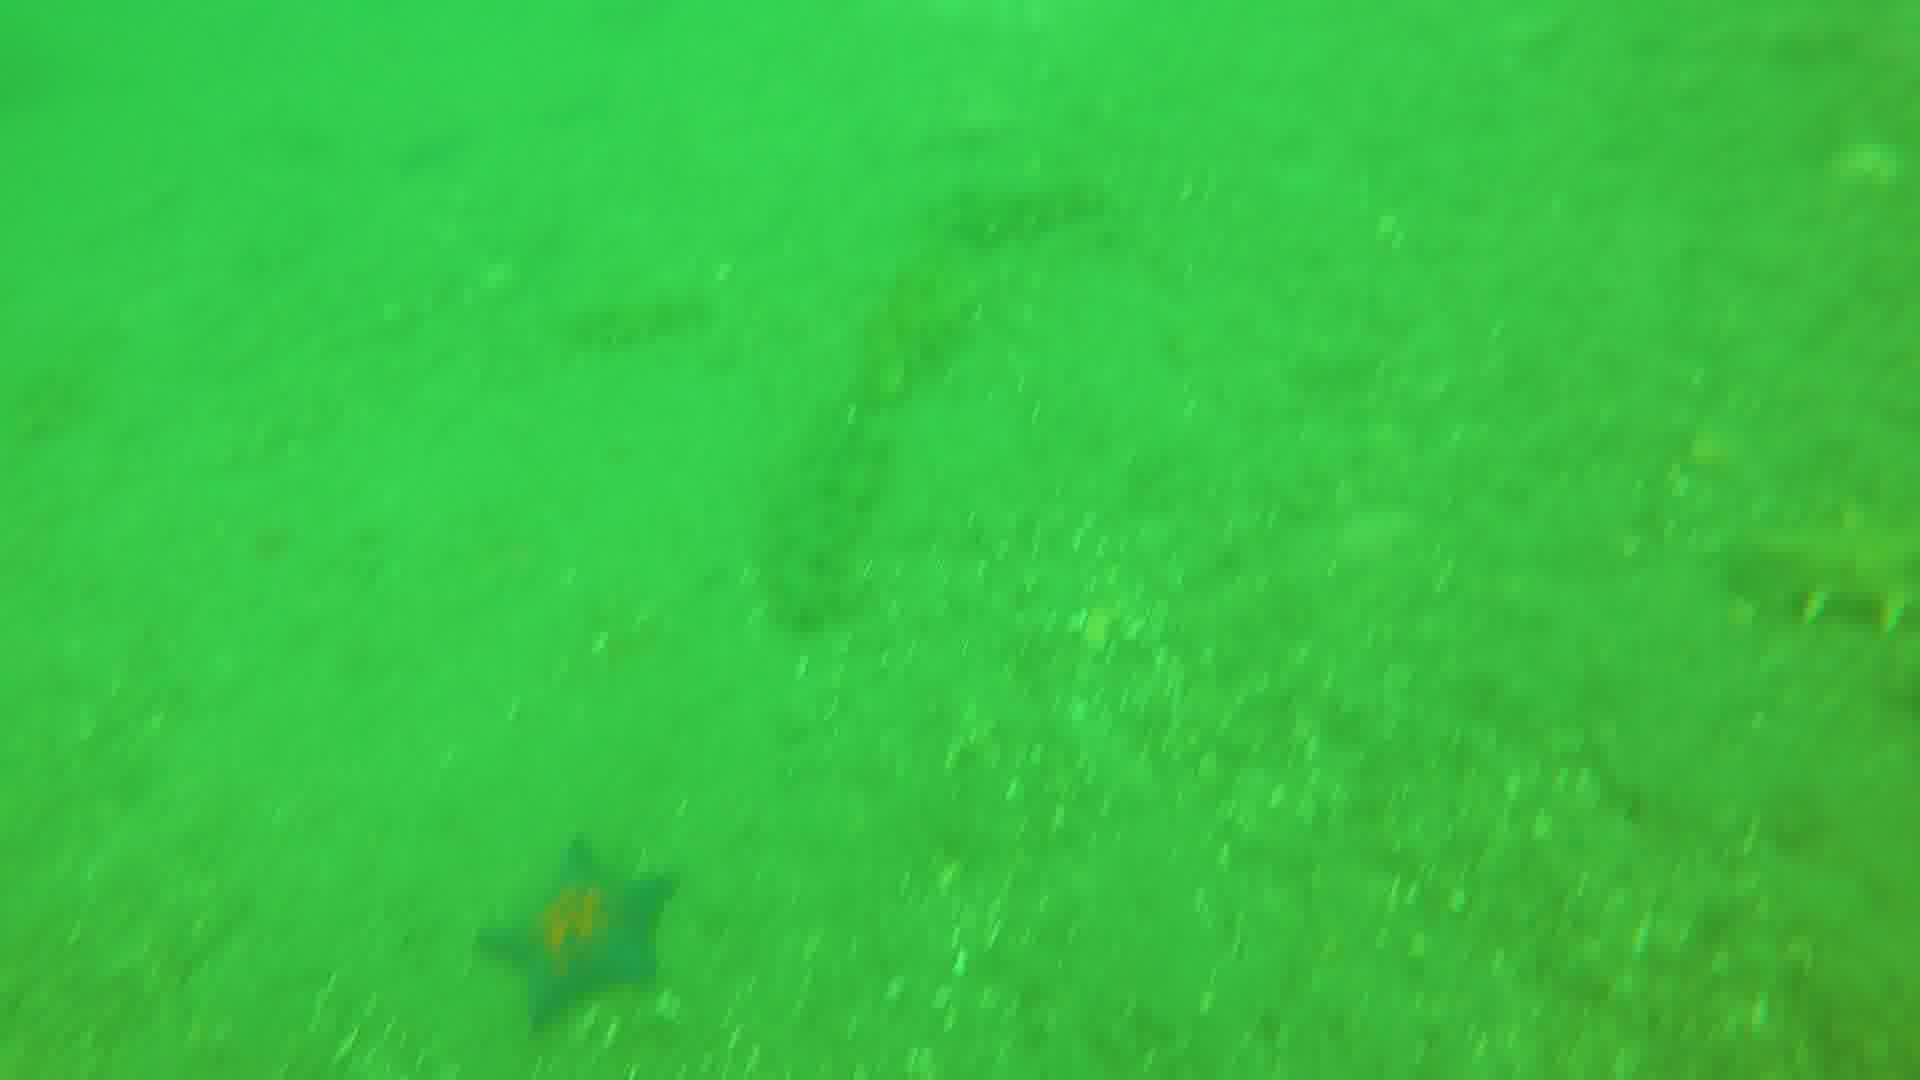holothurian: (766, 404, 884, 632), (1734, 520, 1920, 625), (877, 243, 978, 411), (572, 262, 715, 348), (942, 182, 1112, 251)
starfish: (472, 839, 665, 1029)
